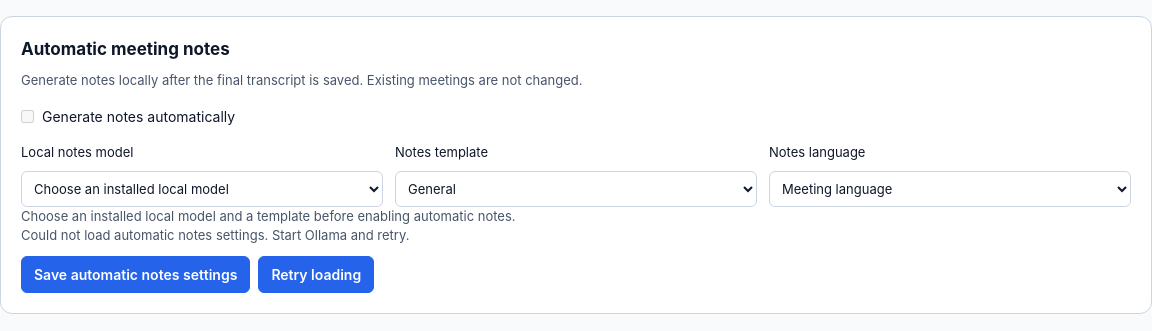
Test: retains a failed choice and permits retrying unavailable models
Expected: the message shows "Could not load automatic notes settings", [21,227,409,243]
Expected: the checkbox is disabled, [21,110,34,123]
Click the button "Retry loading". click: (316, 274)
box: [258,256,374,292]
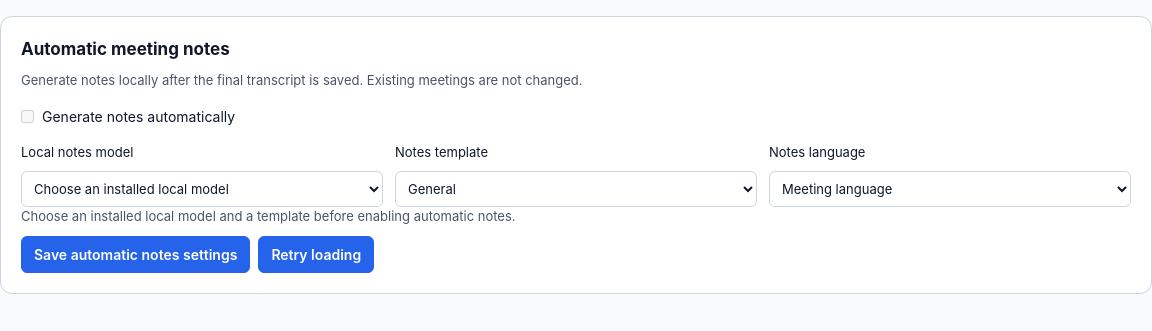
Result: the message "Could not load automatic notes settings. Start Ollama and retry." is gone
